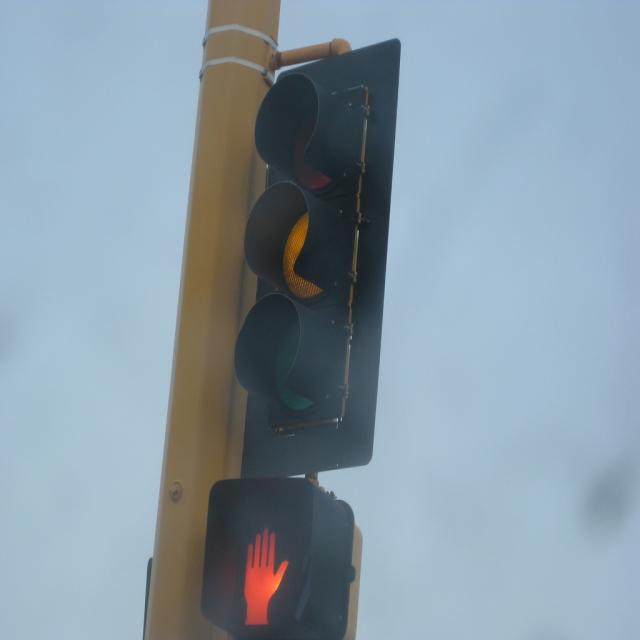traffic light: (240, 43, 384, 469)
